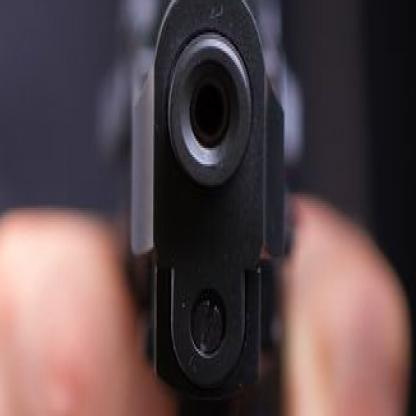gun: (75, 0, 324, 414)
